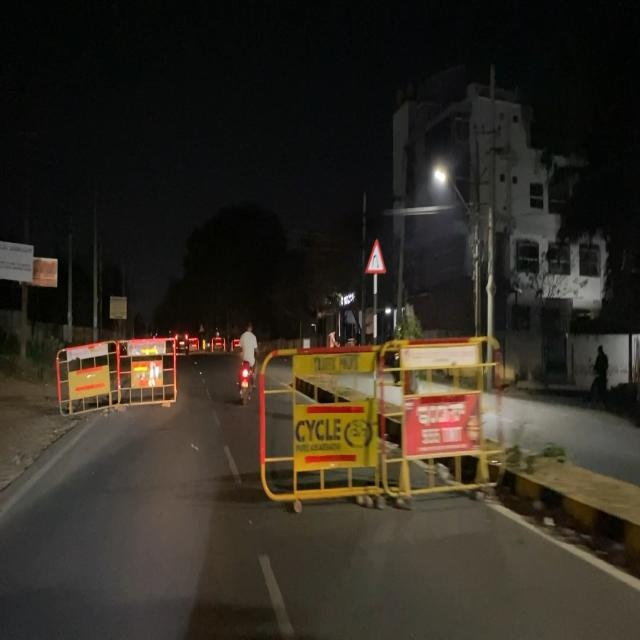bien_nguy_hiem: (364, 236, 386, 277)
